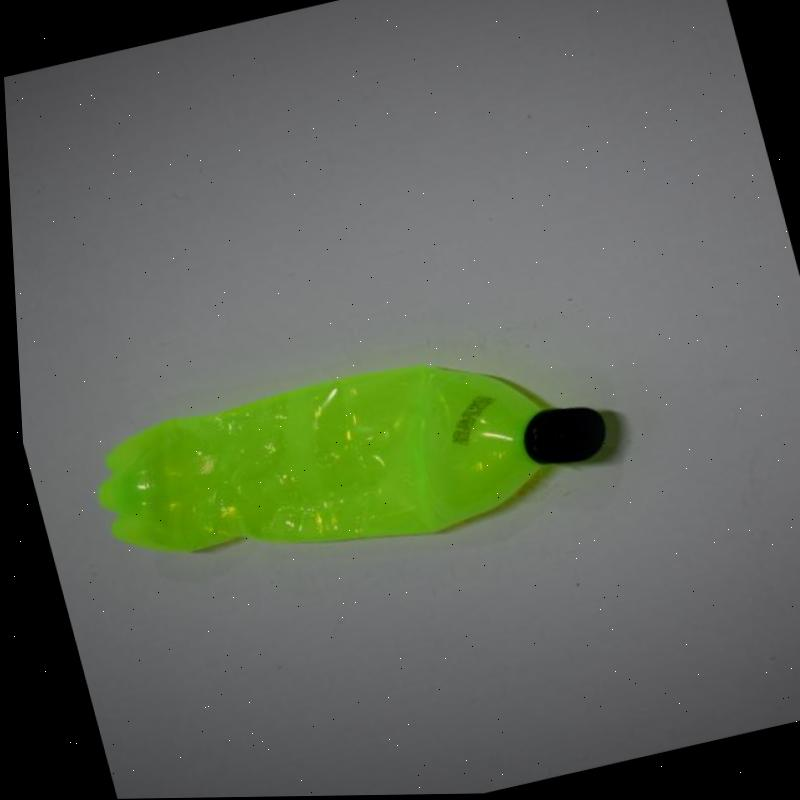botella: (59, 323, 618, 616)
